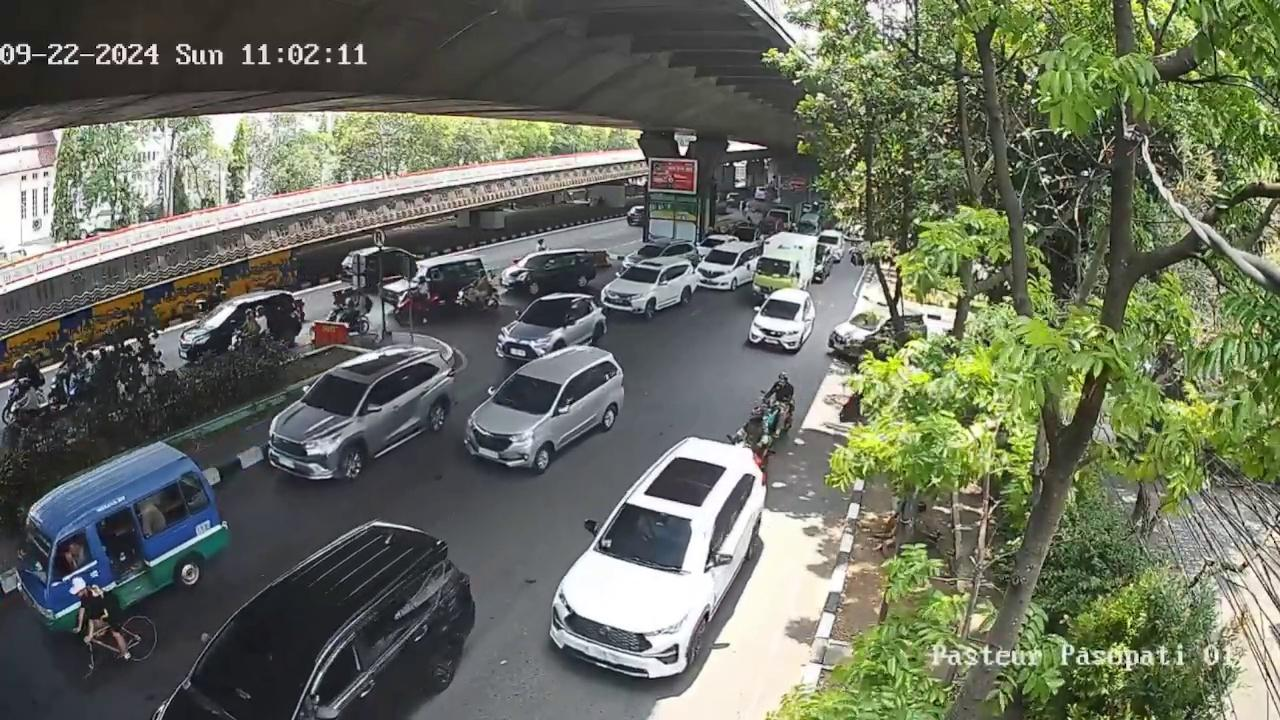pakai: (631, 510, 676, 545)
windshield: (193, 626, 314, 720), (597, 502, 704, 572), (300, 375, 369, 415), (492, 376, 561, 410), (517, 305, 566, 327), (763, 297, 805, 320), (620, 269, 660, 283)
